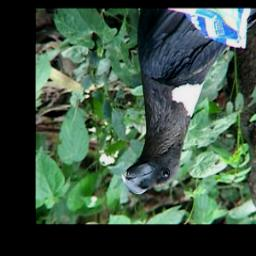Crow: (120, 9, 239, 194)
